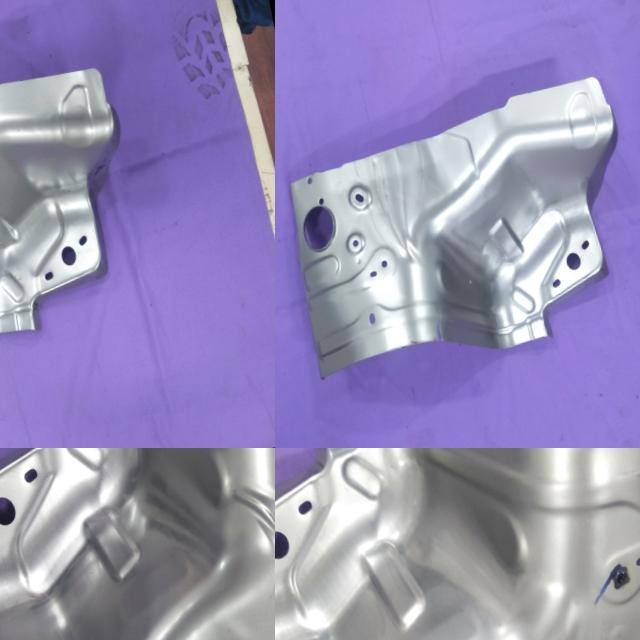Defect: (428, 302, 452, 346)
Healthy: (275, 448, 640, 640), (0, 60, 158, 381)
rust: (388, 330, 424, 352)
